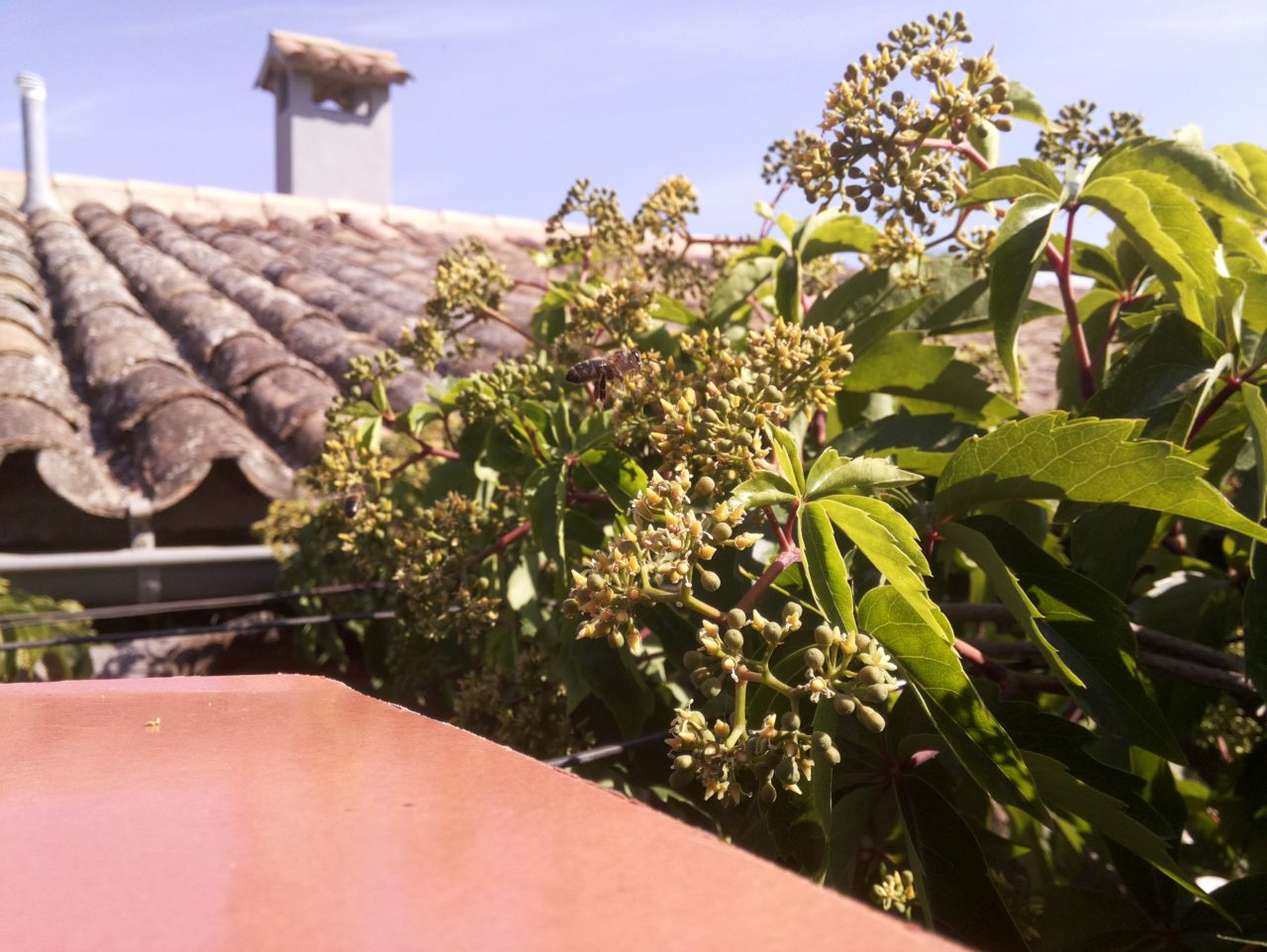Apis mellifera: (557, 341, 659, 406), (327, 476, 376, 530)
